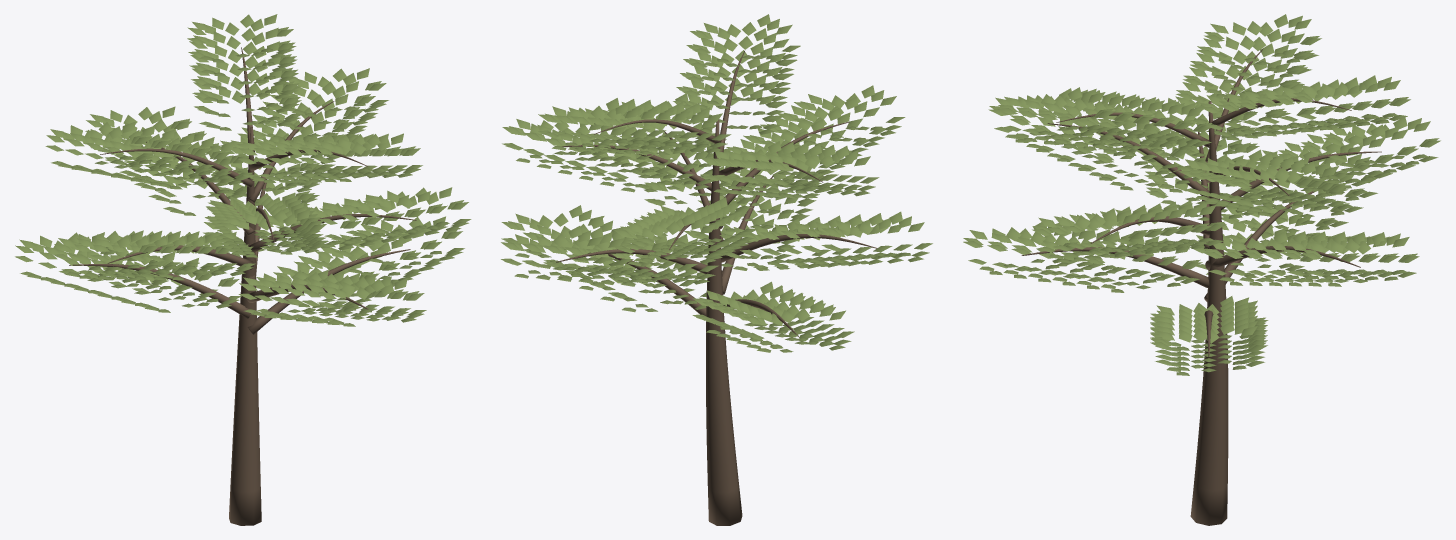
The model's file is street-lod0.glb.
3 views of the same model, side by side, from view 1: azimuth 30°, elevation 25°; view 2: azimuth 150°, elevation 25°; view 3: azimuth 270°, elevation 25° (orthographic). The views are drawn at different scales.
Parts seen in each view (by area): view 1: three dimensional leaves, rooted trunk and branch hierarchy; view 2: three dimensional leaves, rooted trunk and branch hierarchy; view 3: three dimensional leaves, rooted trunk and branch hierarchy.
Boxes of the visible parts, x1,y1,x2,y2 form: three dimensional leaves: (15, 14, 471, 326); rooted trunk and branch hierarchy: (69, 47, 416, 525); three dimensional leaves: (501, 14, 932, 352); rooted trunk and branch hierarchy: (556, 51, 877, 525); three dimensional leaves: (963, 14, 1440, 375); rooted trunk and branch hierarchy: (1021, 49, 1381, 525).
Bounding box in the file's own units: 6.29 × 6.34 × 6.01.
